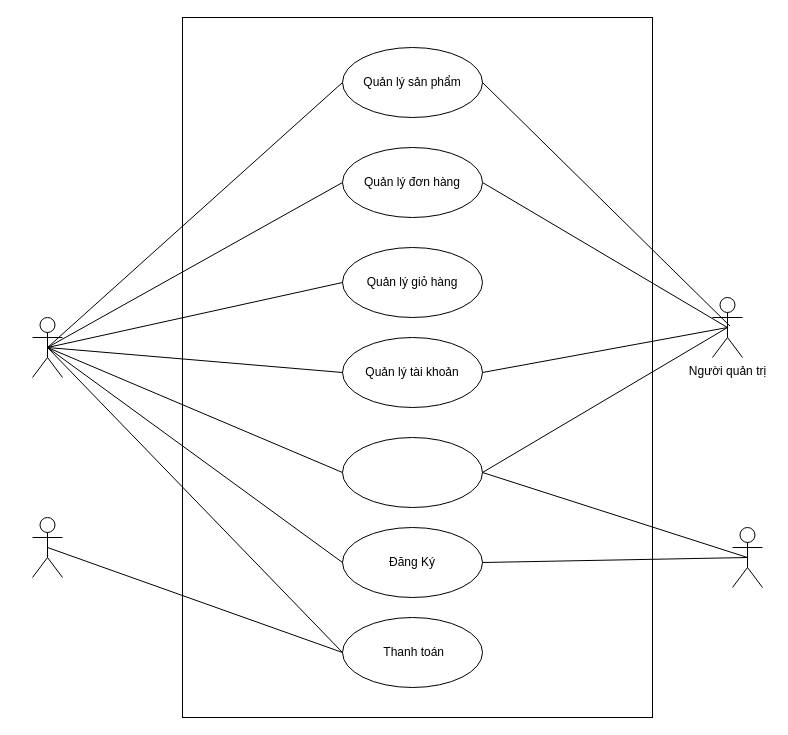
This 788x735 diagram has some shape labels left out. Here are the shapes that lost their labels. From the top down, the centre of each, then its label:
(x=47, y=347): Người mua
(x=412, y=472): Đăng Nhập
(x=47, y=547): Stripe
(x=747, y=557): Firebase
